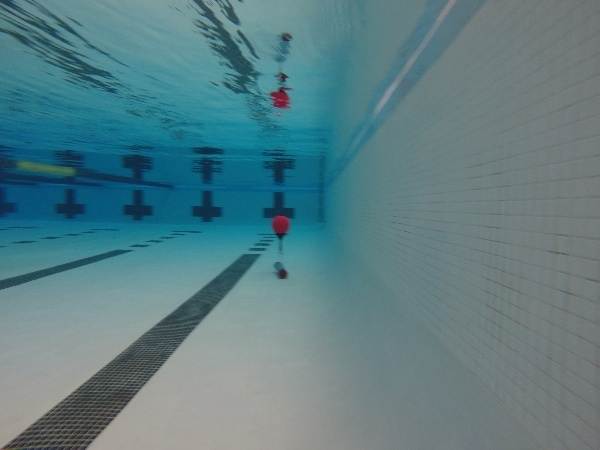buoy_red: (271, 214, 291, 243)
